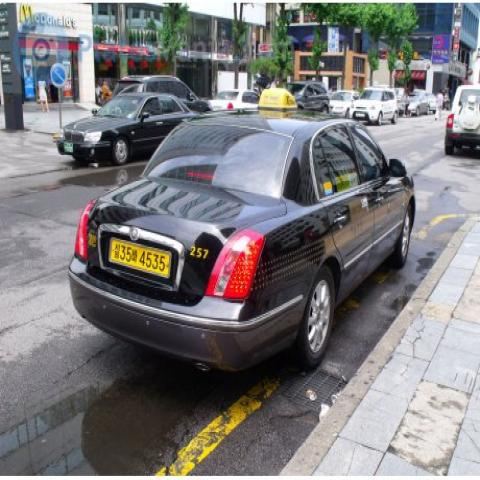LP: (103, 231, 177, 291)
